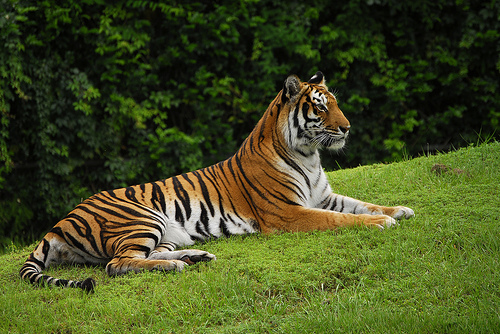Tigre: (18, 54, 434, 289)
